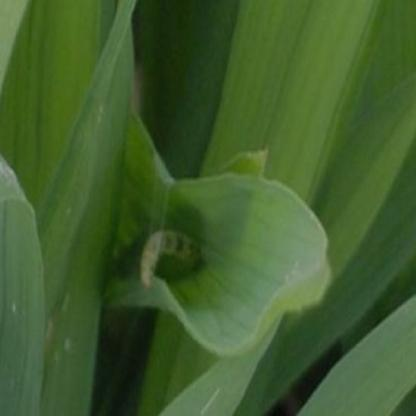leaf-folder: (130, 191, 218, 294)
